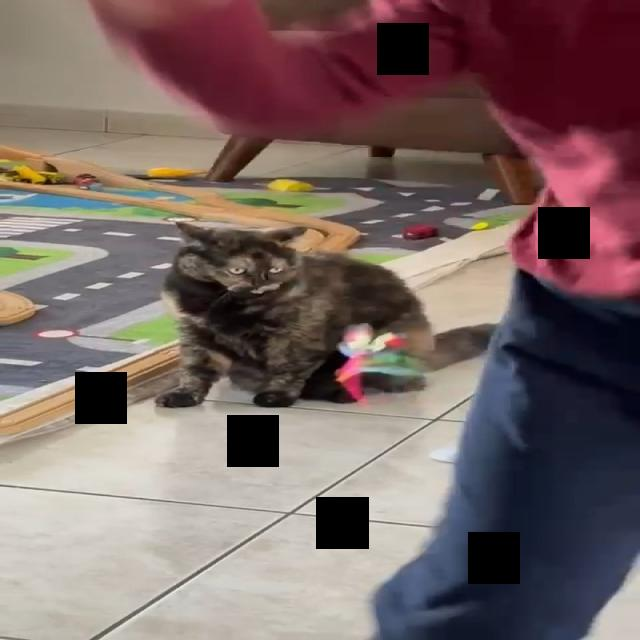authorized: (153, 220, 496, 408)
